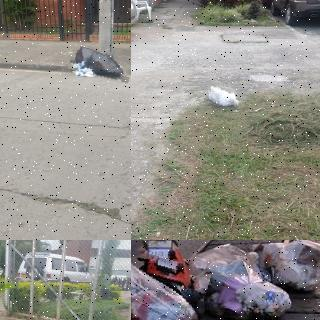Garbage: (191, 247, 293, 318), (131, 241, 208, 320), (255, 240, 320, 293), (69, 46, 131, 80), (204, 84, 246, 112)
